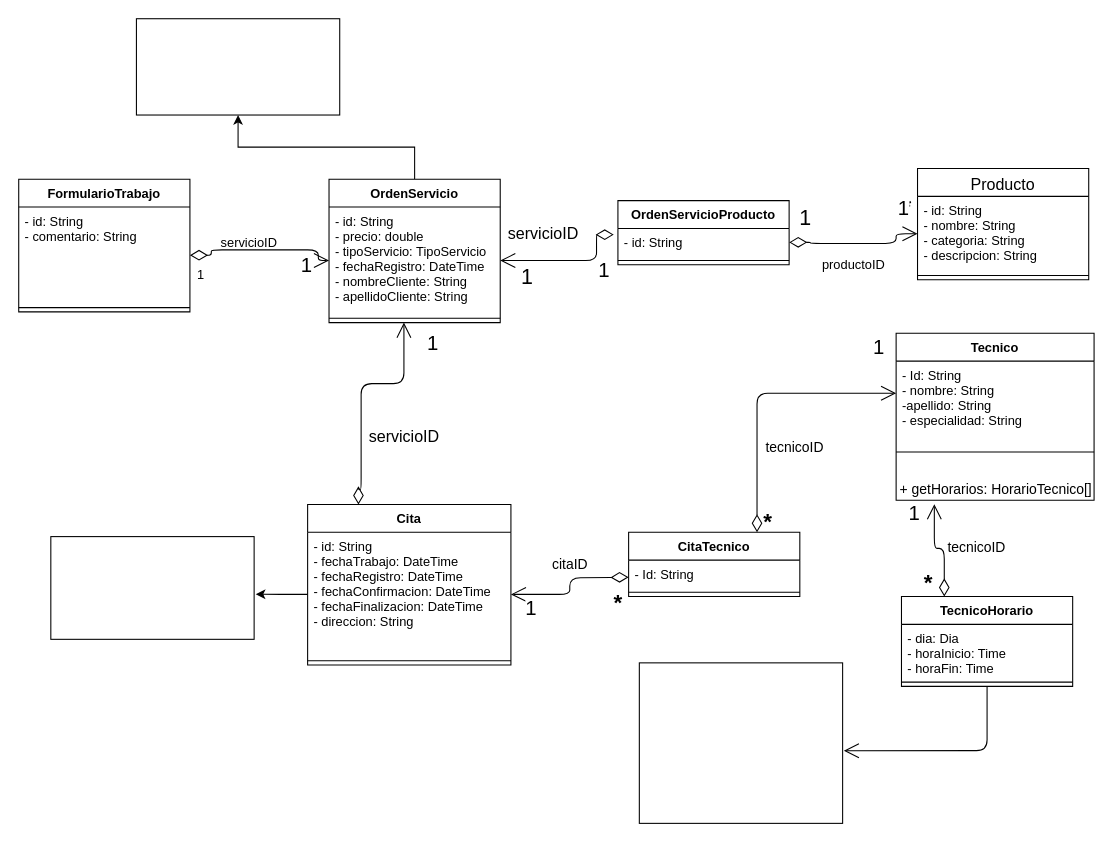
Image size: 1113x842. Some labels were removed from this diagram. Each missing label, with the centre of its shape:
"<<Enum>> CitaEstado Creada, Confirmada, Finalizada" goes at pixel 152 587.
"<<Enum>> Dia Lunes, Martes, Miercoles, Jueves, Viernes, Sabado, Domingo" goes at pixel 740 742.
"<<Enum>> TipoServicio Instalacion, Reparacion, Mantenimiento" goes at pixel 237 66.
